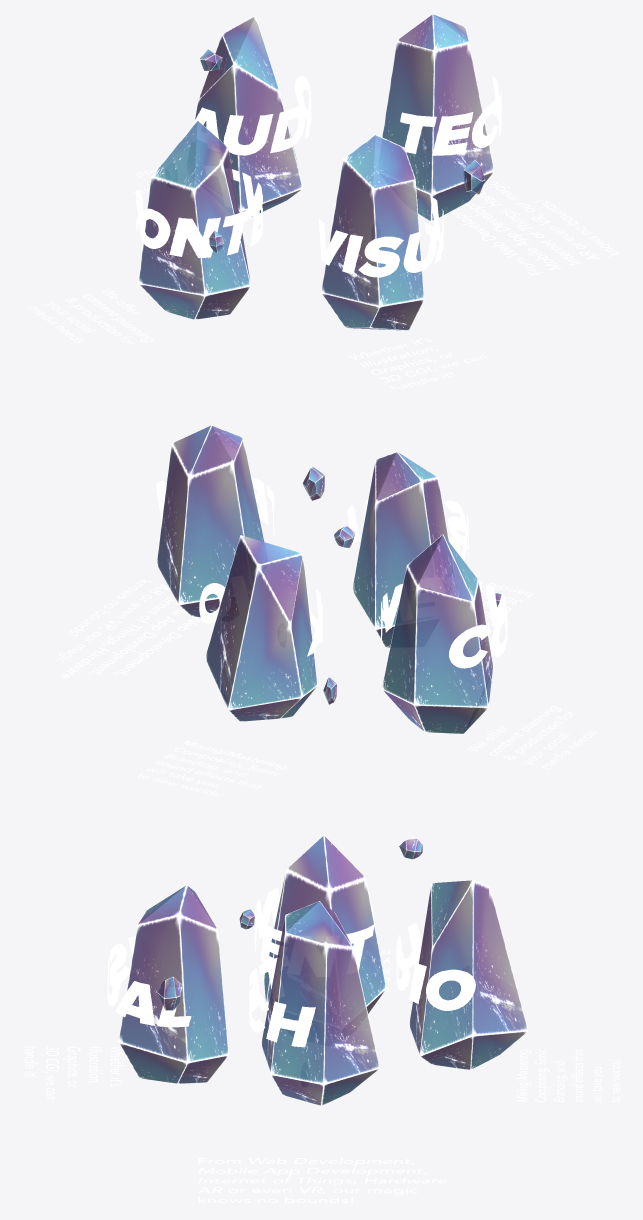
Rendered from crystal.glb.
The picture shows the model from 3 angles, top to bottom: view 1: azimuth 30°, elevation 25°; view 2: azimuth 150°, elevation 25°; view 3: azimuth 270°, elevation 25°; orthographic projection. The views are drawn at different scales.
Visible parts, largest first — view 1: Cylinder.004, Cylinder.006, Cylinder, Cylinder.002, Cylinder.005, Cylinder.007, Cylinder.003, Cylinder.001, parco-tech-body-trs, parco-content-body-trs, parco-visual-body-trs, Cylinder.011; view 2: Cylinder.002, Cylinder.004, Cylinder, Cylinder.006, Cylinder.005, parco-tech-body-trs, parco-audio-body-trs, parco-content-body-trs, Cylinder.007, Cylinder.003, Cylinder.001, Cylinder.011; view 3: Cylinder, Cylinder.002, Cylinder.006, Cylinder.004, parco-tech-body-trs, Cylinder.003, Cylinder.007, Cylinder.001, Cylinder.005, parco-audio-body-trs, parco-visual-body-trs, Cylinder.011.
Part boxes in pixels (left/top/right/bottom): Cylinder.004: left=138, top=120, right=250, bottom=319; Cylinder.006: left=321, top=134, right=424, bottom=330; Cylinder: left=382, top=14, right=494, bottom=221; Cylinder.002: left=194, top=15, right=303, bottom=216; Cylinder.005: left=136, top=169, right=262, bottom=258; Cylinder.007: left=319, top=196, right=443, bottom=277; Cylinder.003: left=192, top=76, right=311, bottom=155; Cylinder.001: left=400, top=76, right=501, bottom=155; parco-tech-body-trs: left=451, top=181, right=620, bottom=275; parco-content-body-trs: left=28, top=288, right=154, bottom=344; parco-visual-body-trs: left=347, top=338, right=487, bottom=390; Cylinder.011: left=463, top=160, right=485, bottom=194; Cylinder.002: left=204, top=535, right=317, bottom=721; Cylinder.004: left=381, top=534, right=493, bottom=734; Cylinder: left=156, top=425, right=264, bottom=617; Cylinder.006: left=352, top=452, right=448, bottom=647; Cylinder.005: left=381, top=581, right=507, bottom=668; parco-tech-body-trs: left=55, top=579, right=200, bottom=677; parco-audio-body-trs: left=138, top=740, right=287, bottom=796; parco-content-body-trs: left=466, top=706, right=596, bottom=768; Cylinder.007: left=344, top=498, right=469, bottom=561; Cylinder.003: left=199, top=583, right=322, bottom=656; Cylinder.001: left=156, top=477, right=274, bottom=537; Cylinder.011: left=302, top=467, right=324, bottom=500; Cylinder: left=261, top=901, right=379, bottom=1105; Cylinder.002: left=409, top=880, right=528, bottom=1070; Cylinder.006: left=118, top=885, right=228, bottom=1083; Cylinder.004: left=263, top=835, right=386, bottom=1013; parco-tech-body-trs: left=197, top=1157, right=447, bottom=1202; Cylinder.003: left=396, top=922, right=475, bottom=1010; Cylinder.007: left=107, top=935, right=191, bottom=1027; Cylinder.001: left=249, top=958, right=315, bottom=1047; Cylinder.005: left=254, top=888, right=374, bottom=970; parco-audio-body-trs: left=516, top=1049, right=620, bottom=1102; parco-visual-body-trs: left=24, top=1046, right=124, bottom=1098; Cylinder.011: left=158, top=976, right=181, bottom=1010.
Size of the model in its own units: 11.21 by 5.03 by 11.21.
Materials: 10 (10 with a texture image).
